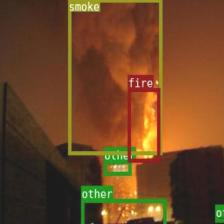fire: (127, 88, 159, 162)
smoke: (67, 0, 161, 154)
